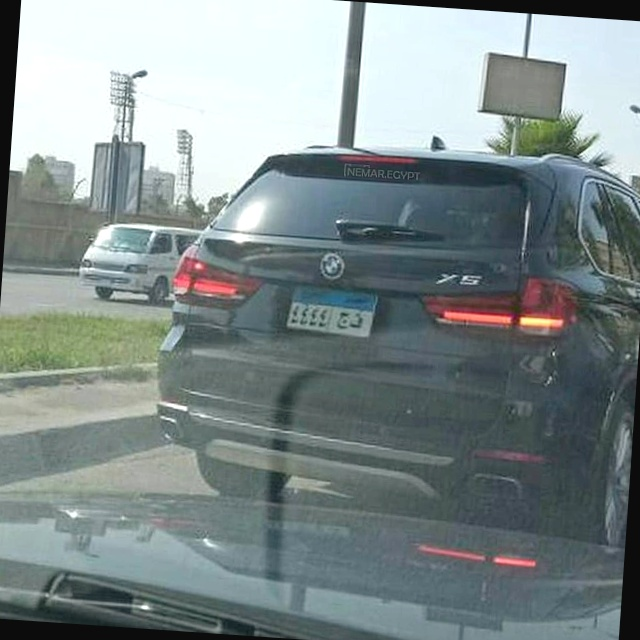License Plate: (284, 280, 379, 341)
